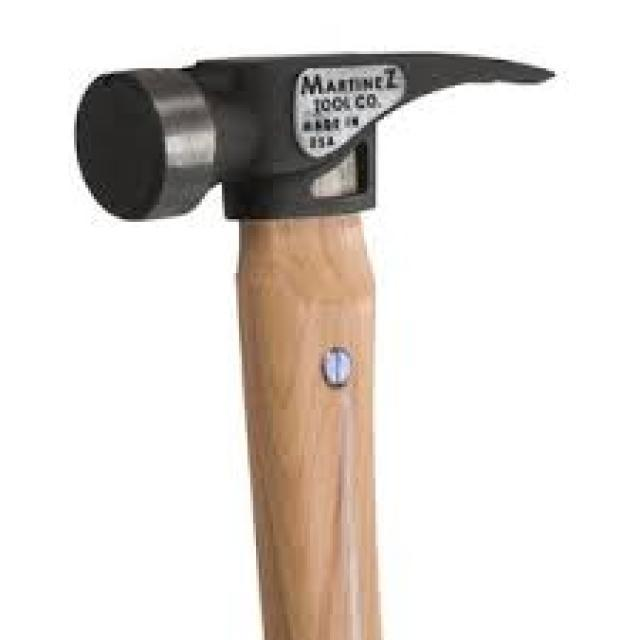Palu: (61, 33, 562, 640)
